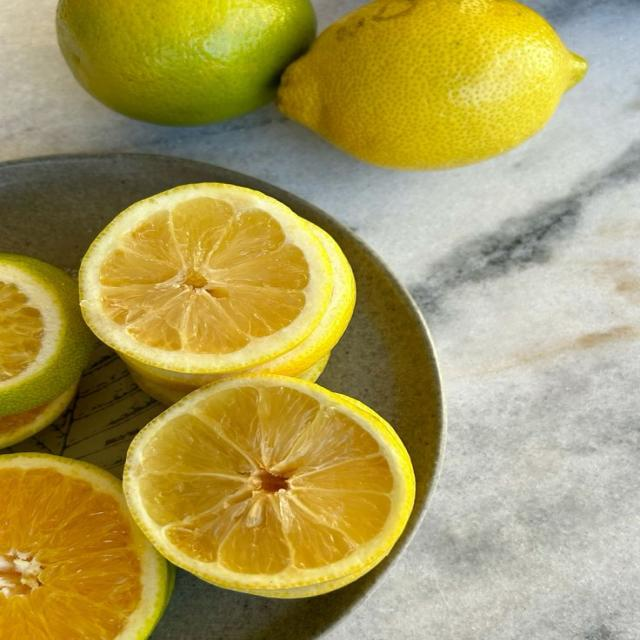lemon: (124, 376, 414, 596), (279, 0, 586, 168), (80, 184, 333, 373), (57, 0, 315, 125), (0, 454, 173, 639), (227, 224, 355, 381), (248, 223, 355, 379), (0, 254, 93, 416), (122, 357, 228, 405), (0, 382, 77, 448)
